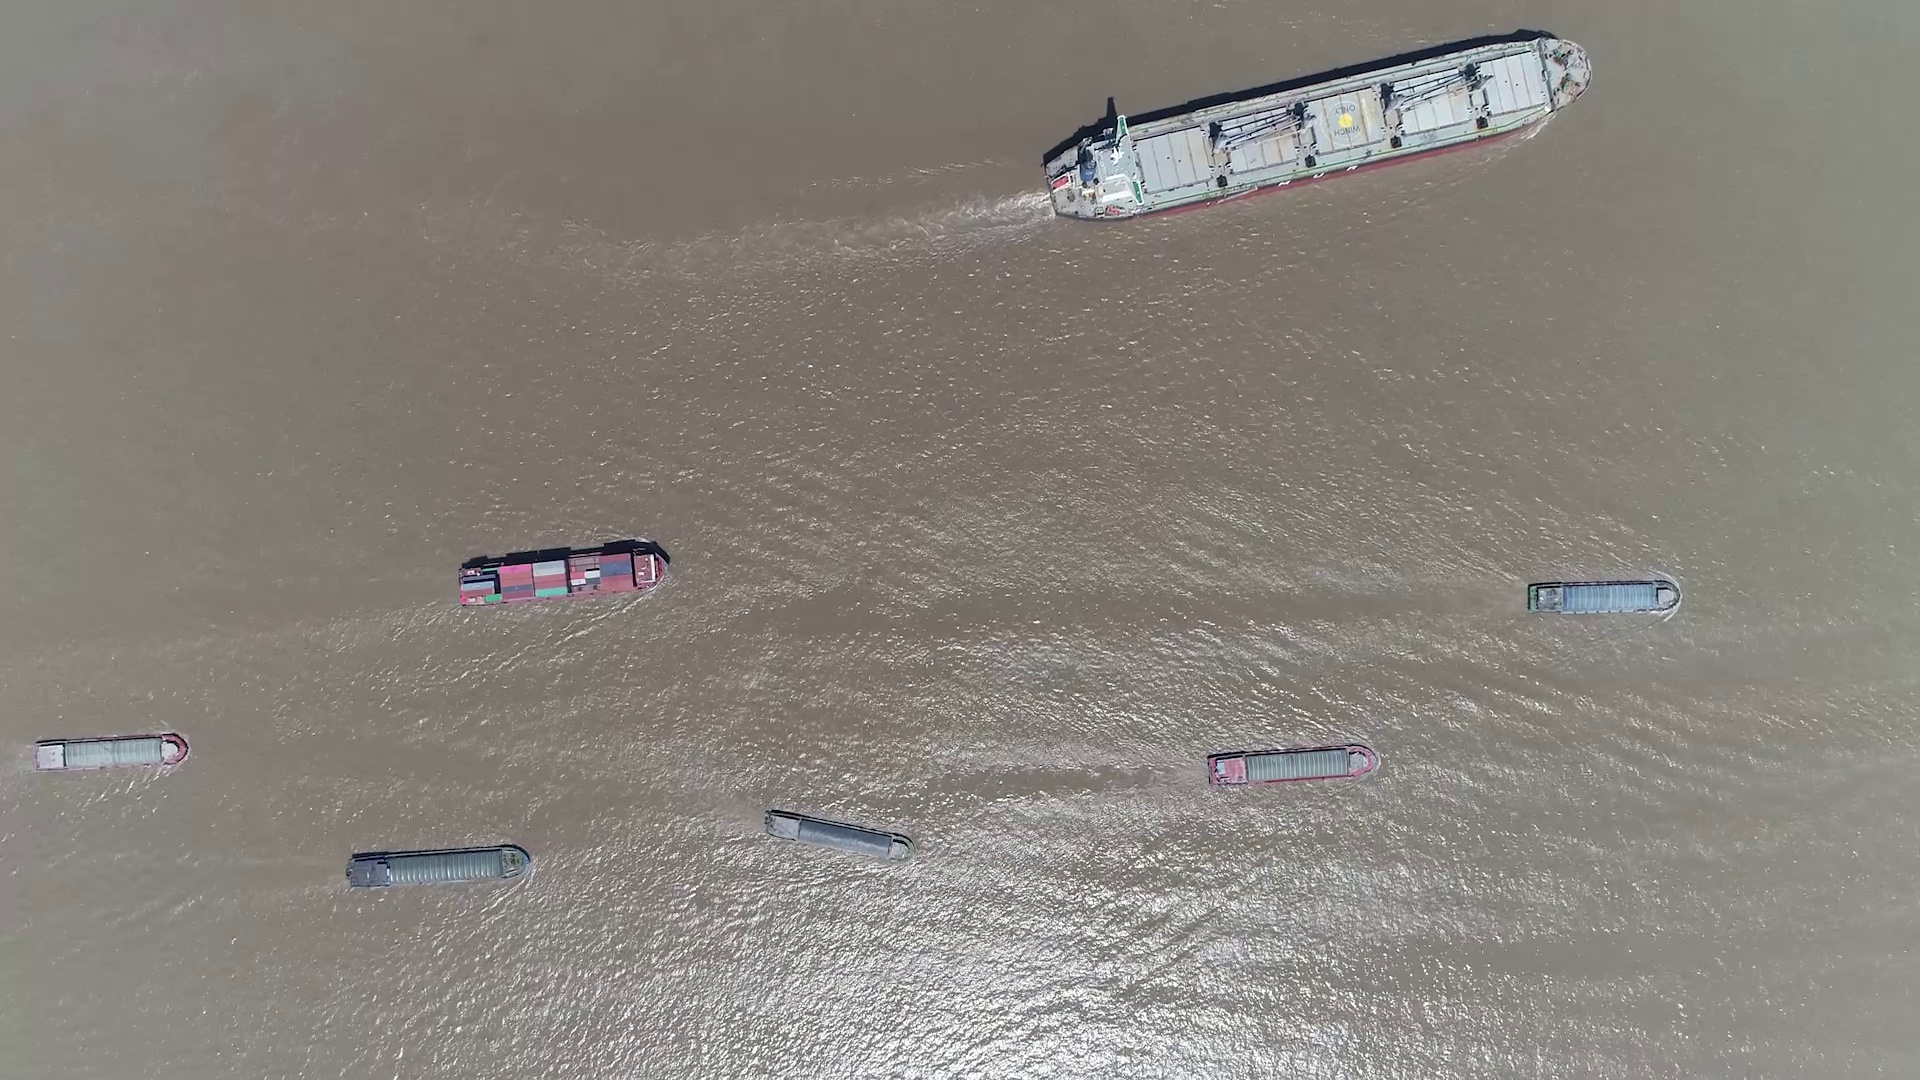ship: (1044, 41, 1586, 220), (458, 545, 670, 605), (348, 845, 531, 890), (761, 807, 911, 860), (1207, 742, 1377, 786), (32, 733, 189, 771), (1528, 579, 1681, 615)
